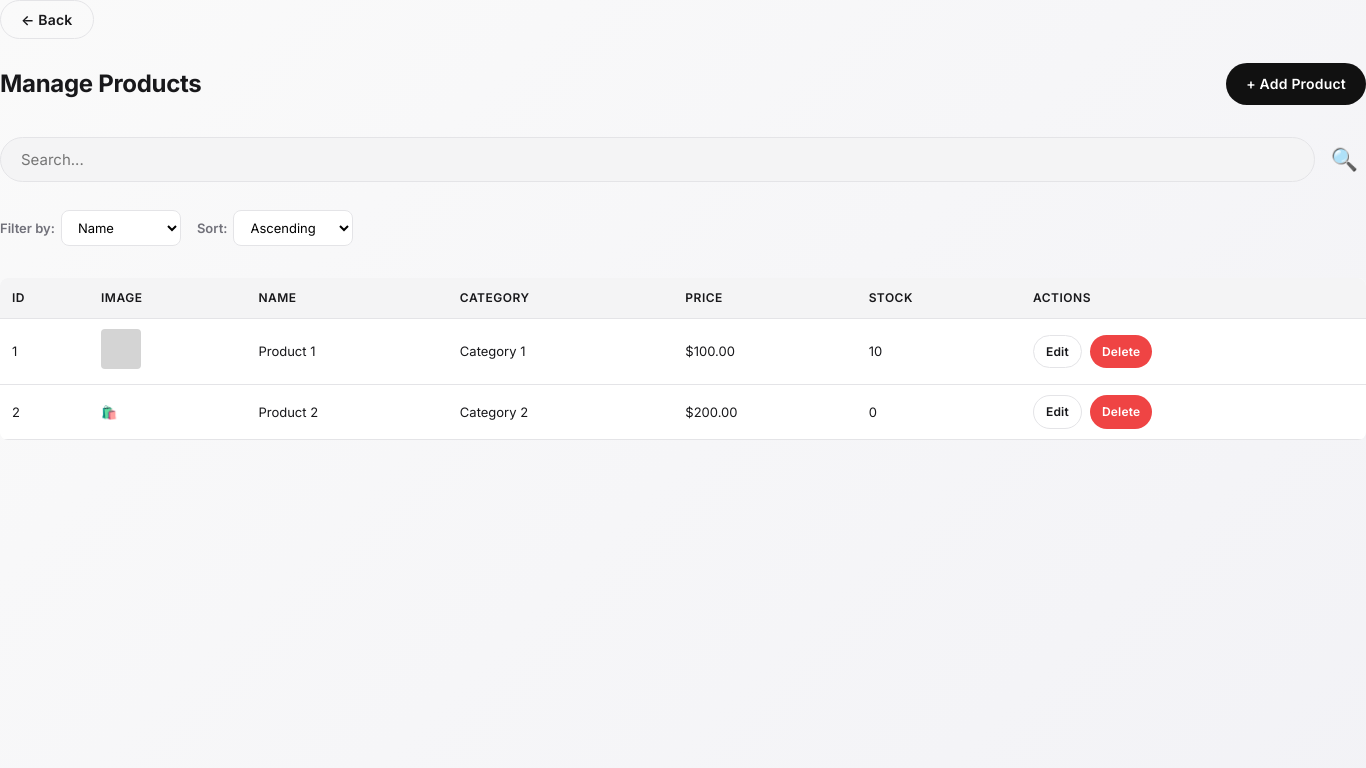
AdminProducts › Delete Product › should show error when delete fails
Click the button "Delete" in the row of "Product 1": x=1121, y=352 [1090,335,1152,368]
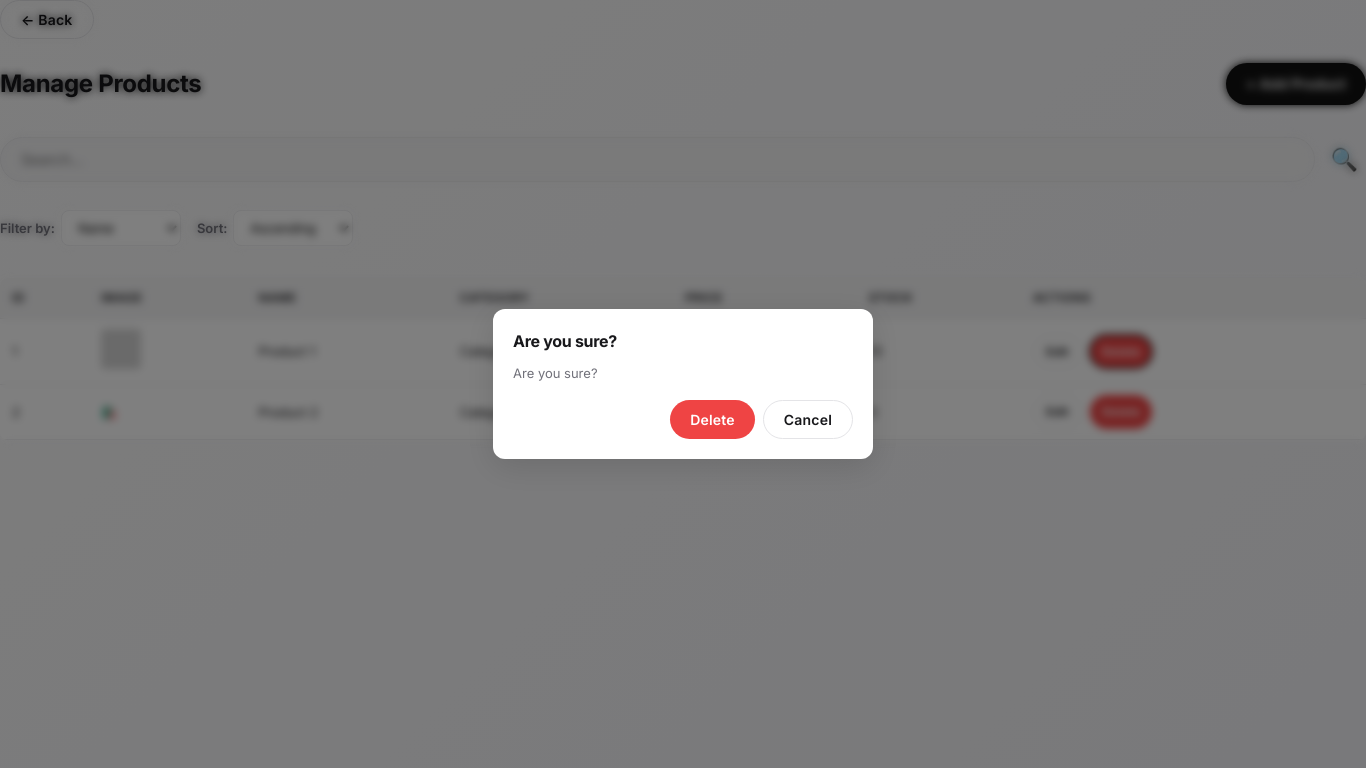
Click the button with class "btn-danger" showing "Delete": x=712, y=419 [670,400,755,439]
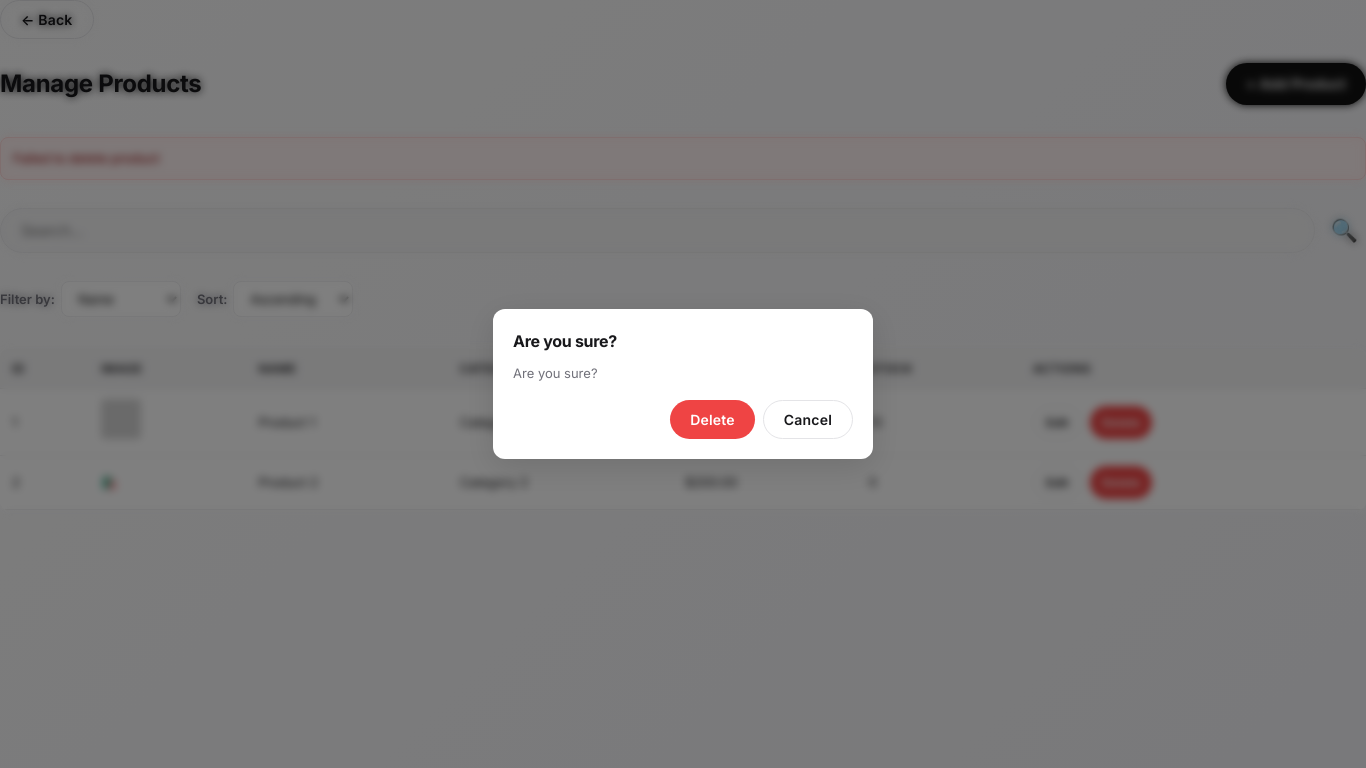
Check: the text "Failed to delete product" is shown, box [0,137,1365,180]
